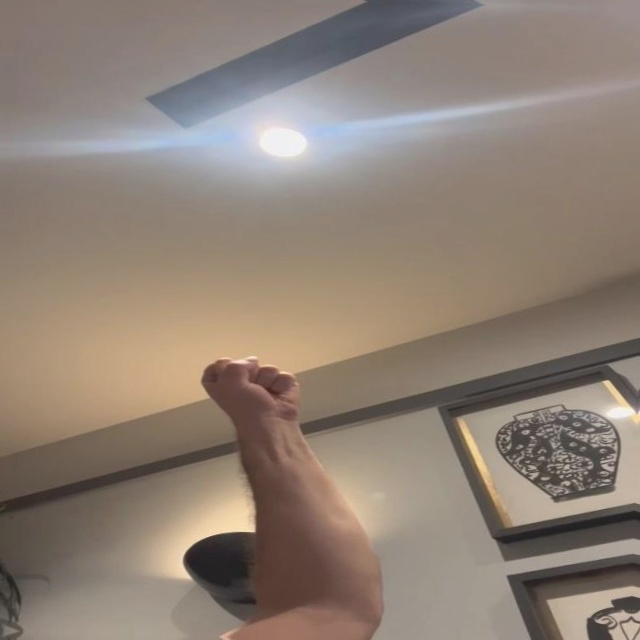Rock: (199, 353, 305, 421)
